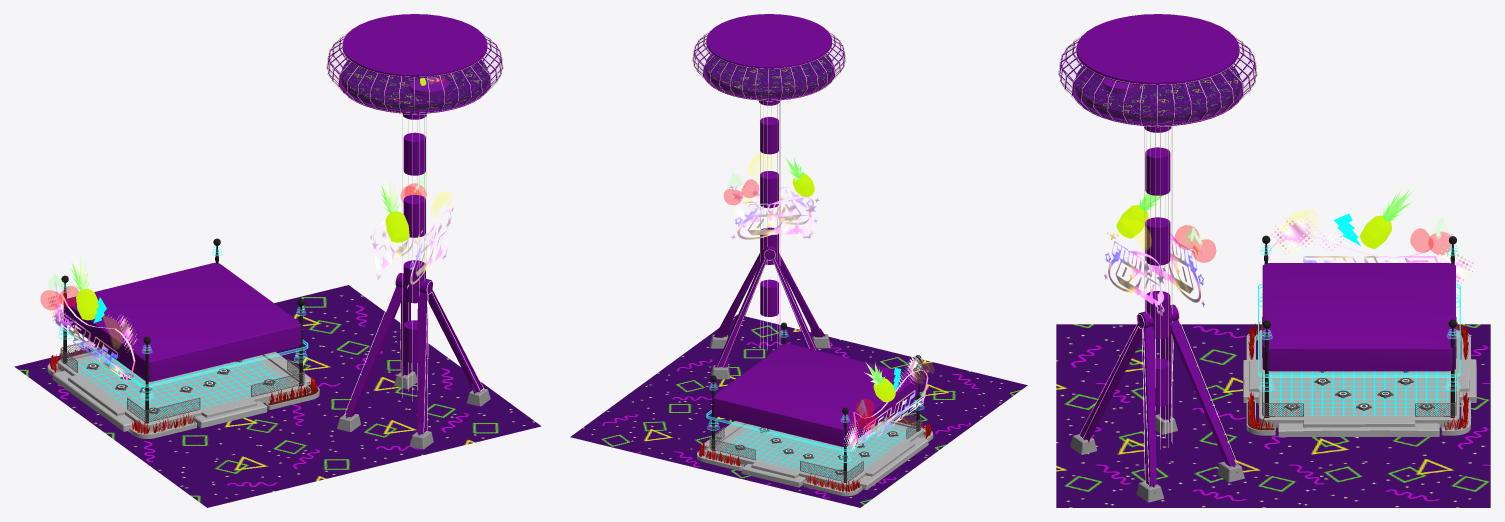
The model's file is onlypark.glb.
3 renders of one model, left to right at view 1: azimuth 30°, elevation 25°; view 2: azimuth 150°, elevation 25°; view 3: azimuth 270°, elevation 25°, orthographic. The views are drawn at different scales.
Visible parts, largest first — view 1: Cylinder.011, Plane, Cylinder.001; view 2: Cylinder.011, Plane; view 3: Cylinder.011, Plane, Cylinder.001.
Part boxes in pixels (x1=…): Cylinder.011: x1=40, y1=14, x2=503, y2=449; Plane: x1=14, y1=285, x2=541, y2=507; Cylinder.001: x1=57, y1=324, x2=308, y2=387; Cylinder.011: x1=692, y1=14, x2=933, y2=496; Plane: x1=570, y1=314, x2=1027, y2=507; Cylinder.011: x1=1058, y1=14, x2=1476, y2=502; Plane: x1=1056, y1=324, x2=1490, y2=507; Cylinder.001: x1=1258, y1=285, x2=1460, y2=377.
Size of what is drawn, in the model's own units: 64 by 67.7 by 64.
Materials: 22 (2 with a texture image).
